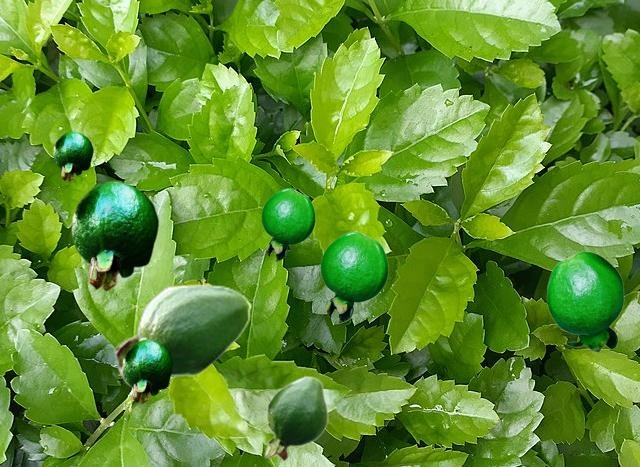guava: (114, 283, 251, 388), (71, 180, 158, 290), (546, 251, 623, 351), (320, 231, 387, 322), (264, 375, 327, 461), (261, 188, 314, 260), (122, 339, 172, 402), (53, 131, 92, 180)
